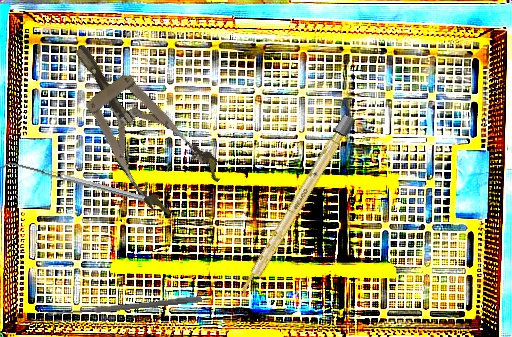Scalpel Handle: (236, 114, 356, 299)
Spatula Surgical: (0, 158, 145, 207)
Speculum: (47, 23, 228, 224)
Surgical Spoon: (48, 294, 202, 319)
